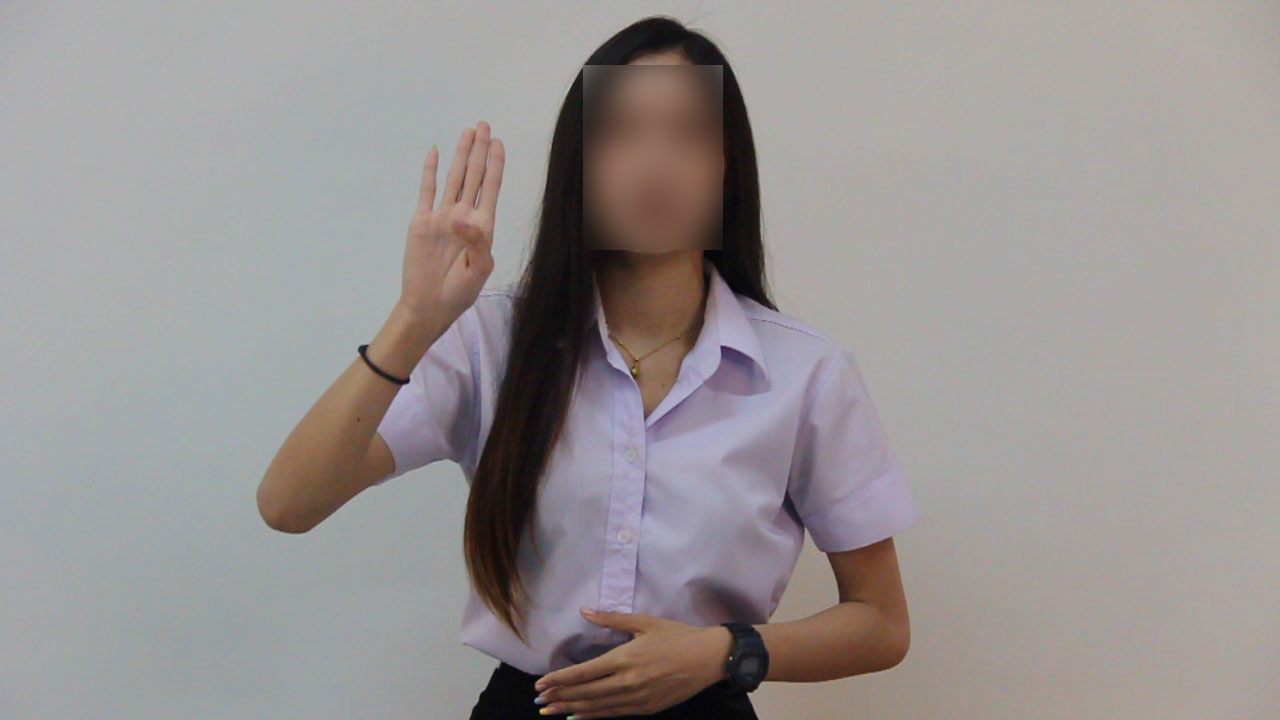bor: (386, 100, 515, 360)
